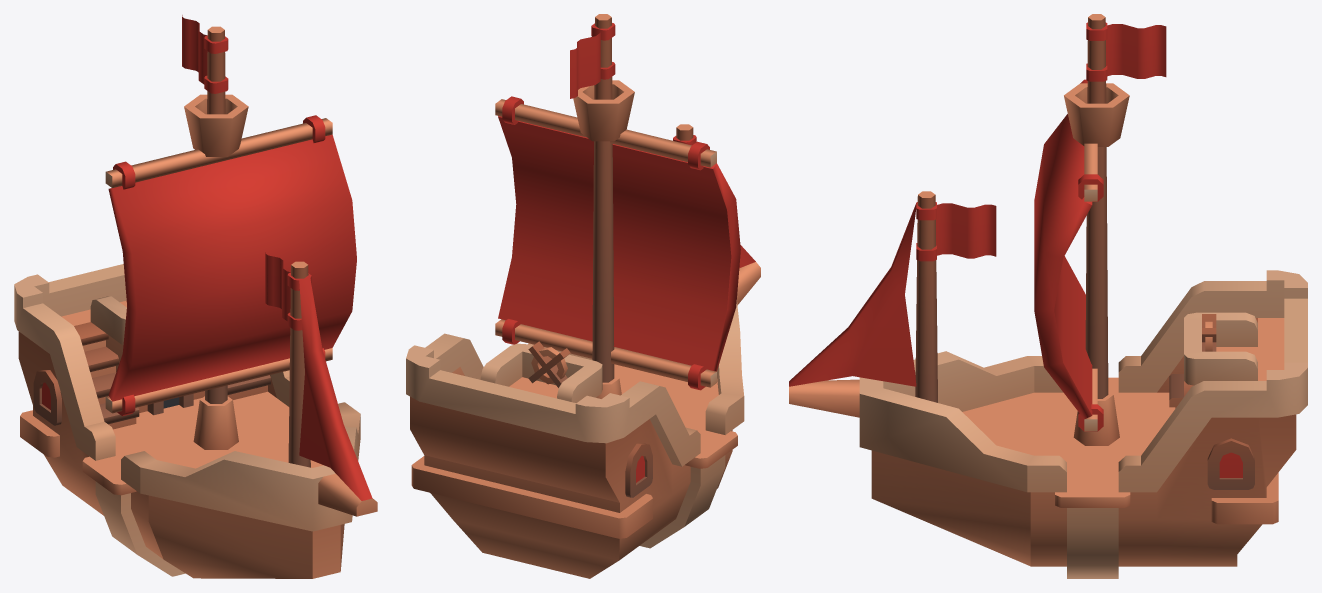
File: pirate_ship-small.glb
The picture shows the model from 3 angles, left to right: view 1: azimuth 30°, elevation 25°; view 2: azimuth 150°, elevation 25°; view 3: azimuth 270°, elevation 25°; orthographic projection. The views are drawn at different scales.
Visible parts, largest first — view 1: ship-small, sail-a, flag-b, flag-a; view 2: ship-small, sail-a, flag-b; view 3: ship-small, sail-a, flag-a, flag-b.
Part boxes in pixels (x1=…): ship-small: x1=14, y1=26, x2=377, y2=578; sail-a: x1=105, y1=115, x2=356, y2=416; flag-b: x1=182, y1=15, x2=228, y2=93; flag-a: x1=265, y1=252, x2=311, y2=330; ship-small: x1=406, y1=14, x2=760, y2=578; sail-a: x1=495, y1=96, x2=740, y2=390; flag-b: x1=570, y1=23, x2=615, y2=98; ship-small: x1=789, y1=14, x2=1307, y2=578; sail-a: x1=1034, y1=79, x2=1103, y2=431; flag-a: x1=916, y1=202, x2=996, y2=261; flag-b: x1=1086, y1=22, x2=1166, y2=81.
Size of the model in its own units: 4.8 by 9.96 by 8.8.
1 material, 1 textured.
